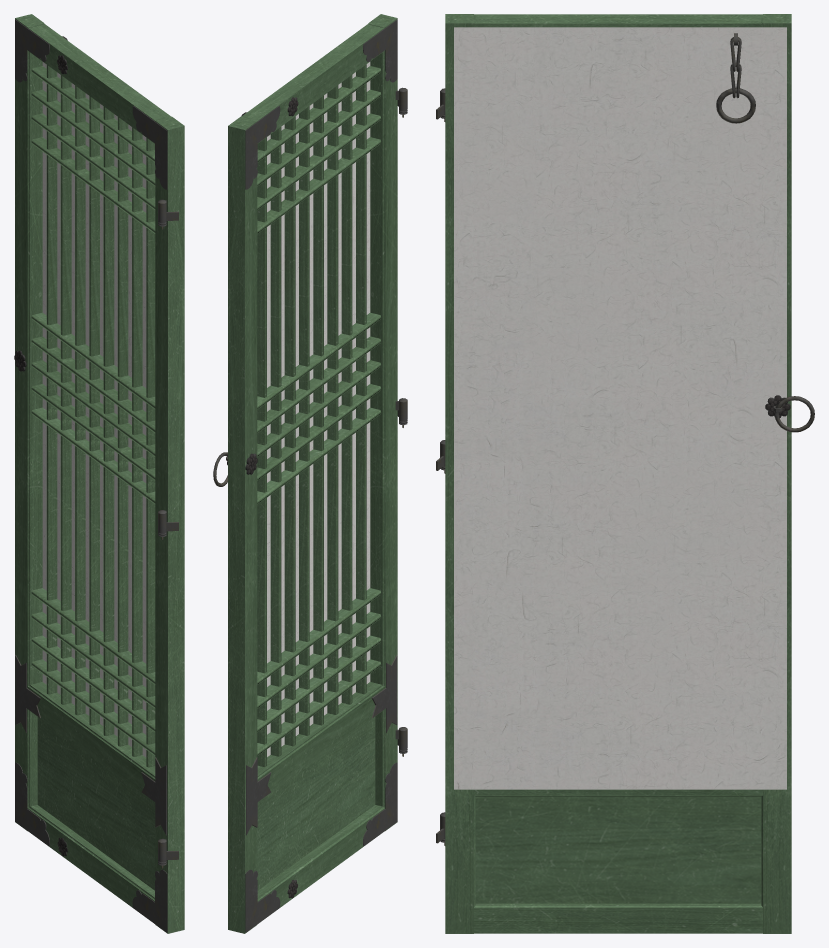
Rendered from SM_Door09A.fbx.
The picture shows the model from 3 angles, left to right: view 1: azimuth 30°, elevation 25°; view 2: azimuth 150°, elevation 25°; view 3: azimuth 270°, elevation 25°; orthographic projection. The views are drawn at different scales.
Visible parts, largest first — view 1: SM_Door09A; view 2: SM_Door09A; view 3: SM_Door09A.
Boxes of the visible parts, <box> form: SM_Door09A: <box>14,14,184,933</box>; SM_Door09A: <box>213,14,407,933</box>; SM_Door09A: <box>436,14,814,933</box>.
Bounding box in the file's own units: 12.05 × 94.29 × 250.
Materials: 1 (1 with a texture image).
